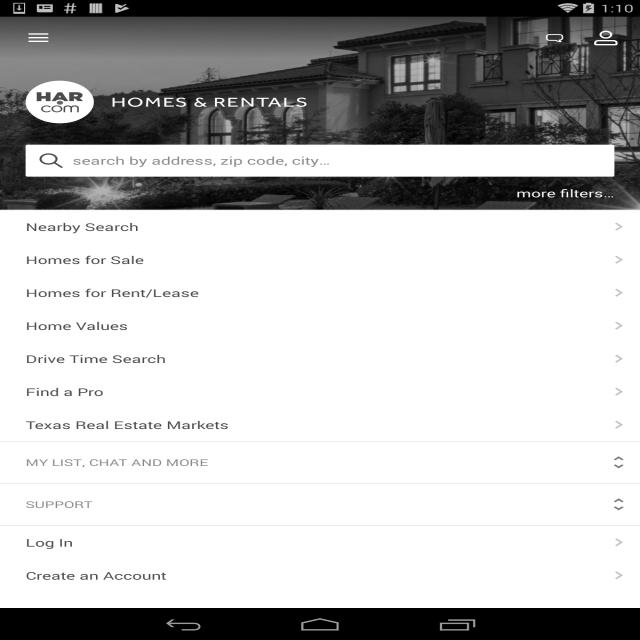ImageButton: (9, 17, 68, 59)
ImageView: (0, 17, 640, 210), (26, 81, 307, 123), (606, 218, 631, 234), (606, 252, 631, 268), (606, 284, 631, 300), (606, 317, 631, 333), (606, 454, 631, 470), (606, 534, 631, 550), (606, 568, 631, 584), (606, 351, 631, 366), (606, 384, 631, 399), (606, 417, 631, 432), (606, 497, 631, 512)
TextView: (26, 144, 614, 177), (26, 535, 597, 550), (26, 568, 597, 583), (26, 220, 597, 234), (26, 253, 597, 267), (26, 286, 597, 300), (26, 319, 597, 333), (26, 352, 597, 366), (26, 385, 597, 399), (26, 418, 597, 432), (26, 456, 597, 469), (26, 498, 597, 511), (580, 22, 632, 54), (529, 22, 580, 54), (516, 186, 614, 200)
